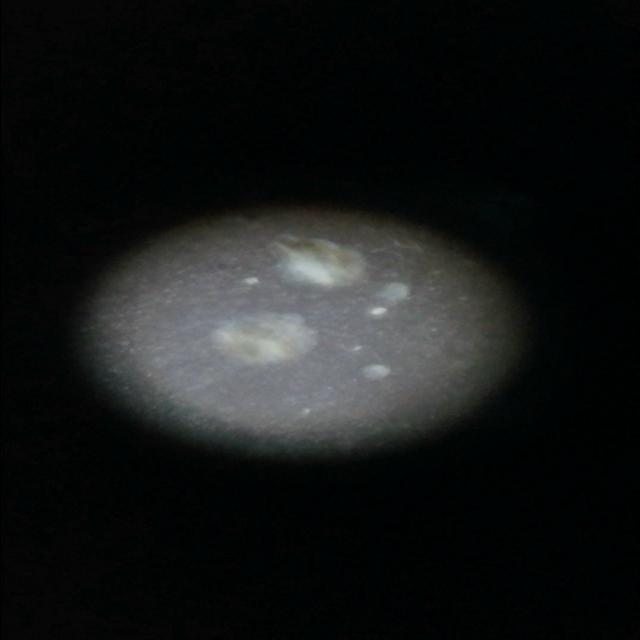alexandrium: (256, 238, 380, 290), (215, 313, 325, 367)
